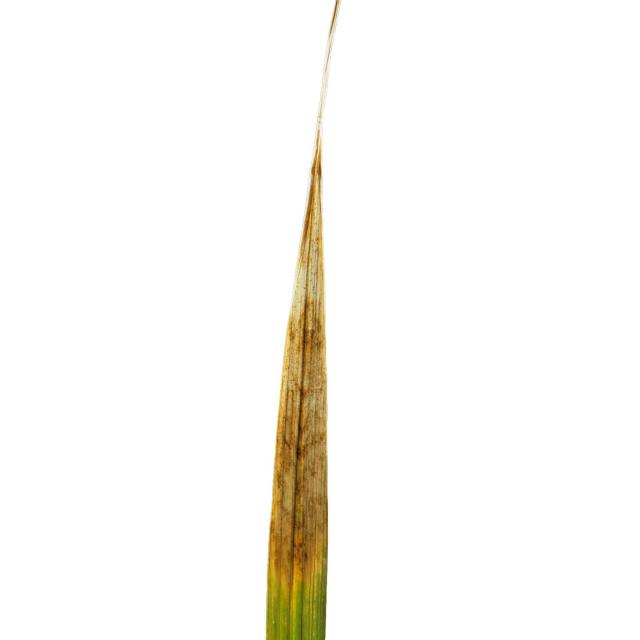Leaf scald: (240, 0, 454, 640)
